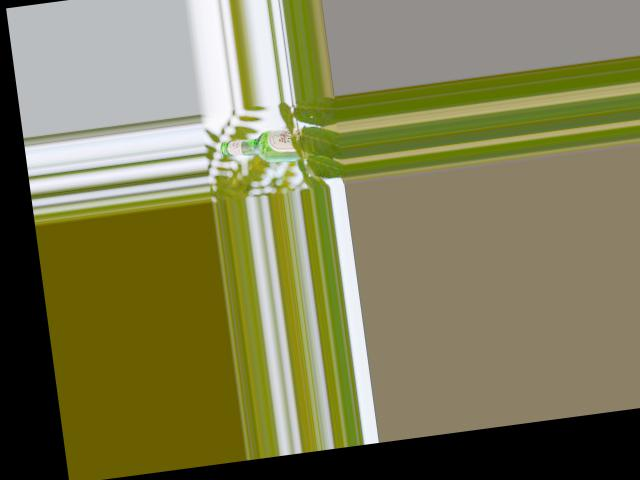beer: (218, 125, 307, 169)
